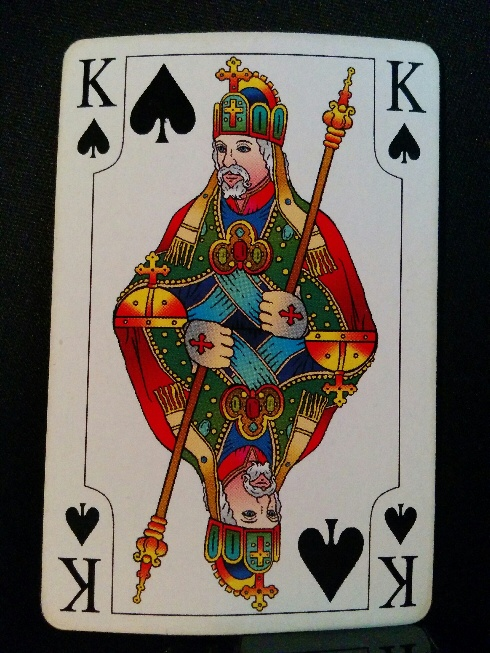Sk: (380, 54, 432, 167), (59, 497, 106, 618), (377, 498, 423, 615), (72, 51, 117, 160)
